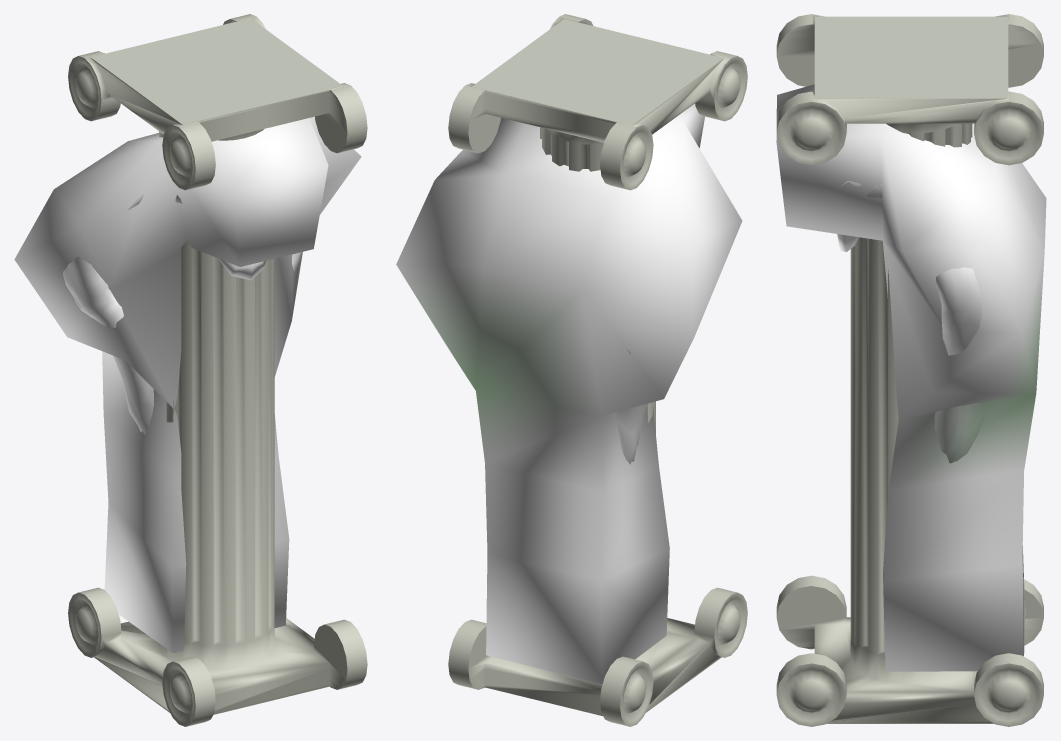
File: cobra9.dae
3 renders of one model, left to right at view 1: azimuth 30°, elevation 25°; view 2: azimuth 150°, elevation 25°; view 3: azimuth 270°, elevation 25°, orthographic. The views are drawn at different scales.
Parts seen in each view (by area): view 1: cylinder2, Cube__hires_, Cube__lores_; view 2: Cube__hires_, cylinder2, Cube__lores_; view 3: Cube__hires_, cylinder2, Cube__lores_.
Part boxes in pixels (box(x1,y1,x2,y2)): cylinder2: box(68, 14, 367, 726); Cube__hires_: box(14, 116, 361, 652); Cube__lores_: box(63, 193, 302, 433); Cube__hires_: box(396, 103, 742, 684); cylinder2: box(448, 14, 747, 726); Cube__lores_: box(615, 349, 648, 464); Cube__hires_: box(776, 84, 1046, 671); cylinder2: box(776, 14, 1043, 726); Cube__lores_: box(836, 181, 991, 463).
Bounding box in the file's own units: 5.94 × 4.45 × 11.37.
